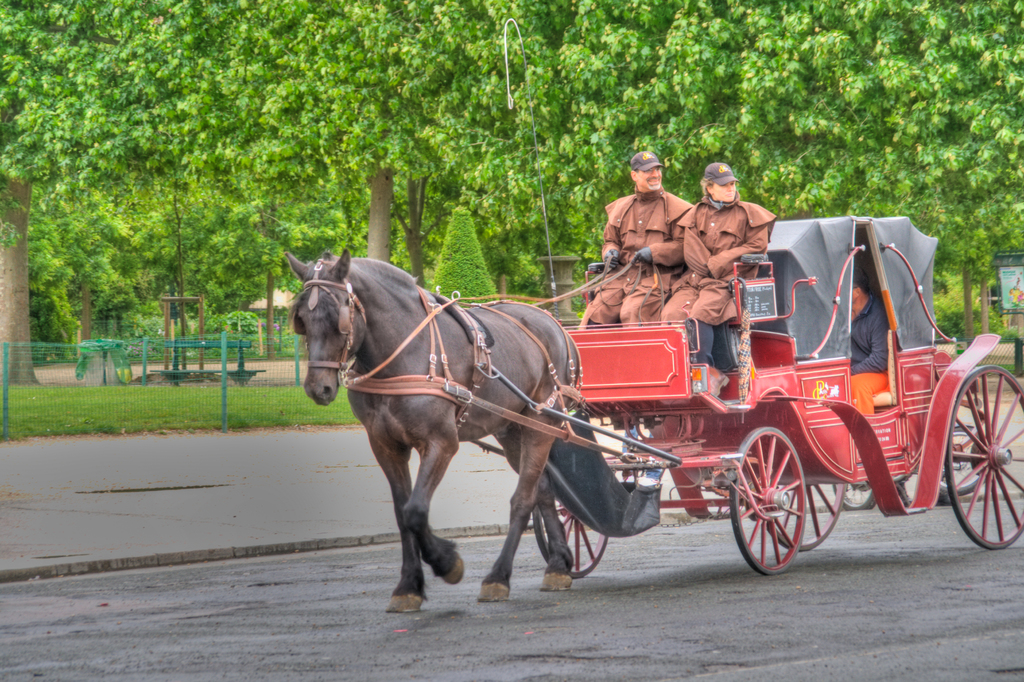horse: (284, 247, 580, 612)
